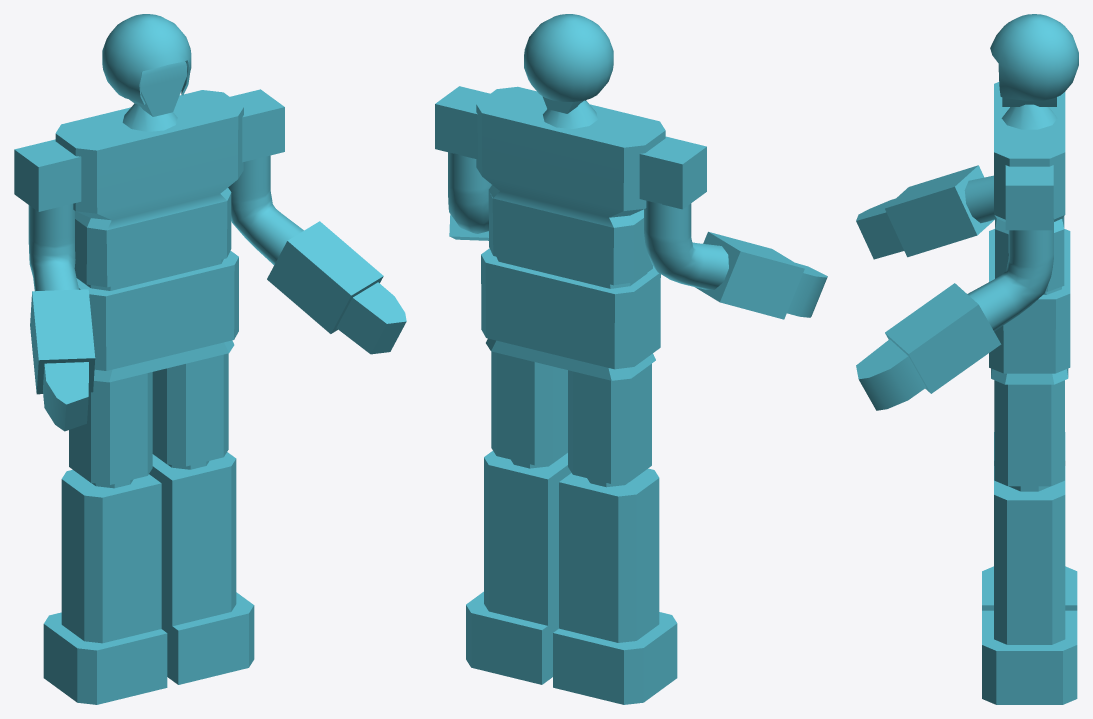
File: Mecha.fbx
The picture shows the model from 3 angles, left to right: view 1: azimuth 30°, elevation 25°; view 2: azimuth 150°, elevation 25°; view 3: azimuth 270°, elevation 25°; orthographic projection.
Parts seen in each view (by area): view 1: Mecha; view 2: Mecha; view 3: Mecha.
Boxes of the visible parts, left/top/right/bottom form: Mecha: left=14, top=14, right=406, bottom=704; Mecha: left=435, top=14, right=827, bottom=704; Mecha: left=856, top=14, right=1078, bottom=704.
Size of the model in its own units: 0.0119 by 0.0212 by 0.00665.
